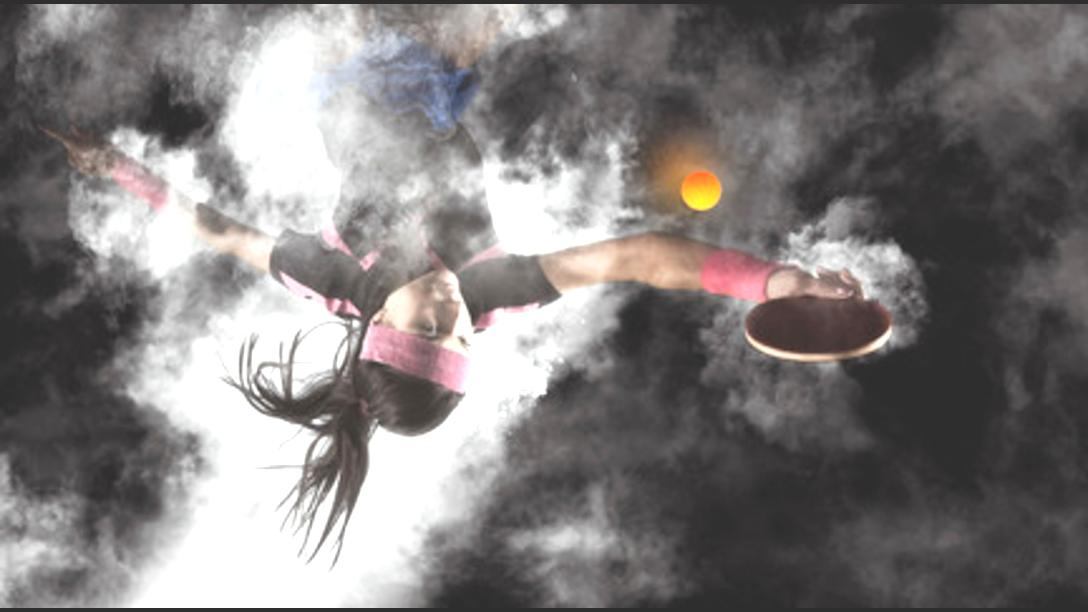Table-Tennis-Ball: (682, 172, 720, 210)
